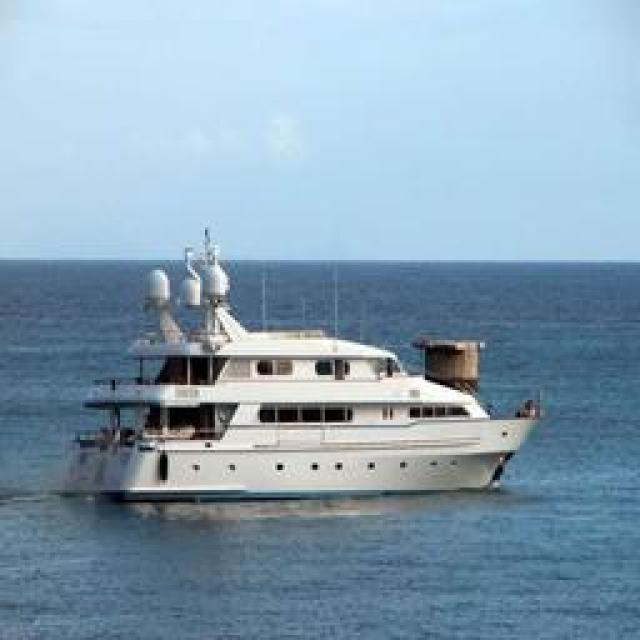ship2: (60, 233, 543, 509)
